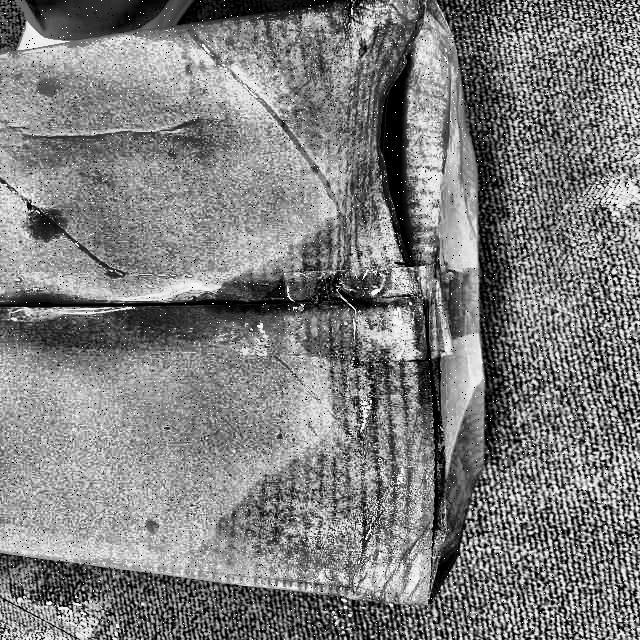box: (0, 1, 487, 611)
hole: (373, 54, 442, 251)
wet: (183, 331, 462, 603)
